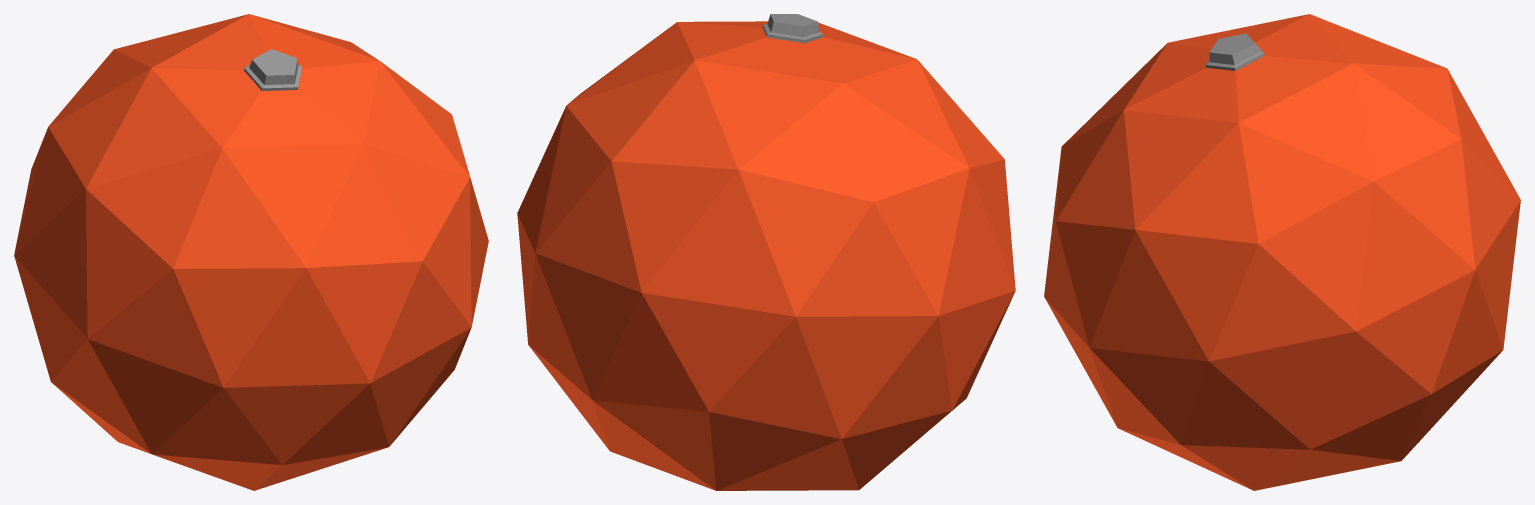
File: orangee.FBX
The picture shows the model from 3 angles, left to right: view 1: azimuth 30°, elevation 25°; view 2: azimuth 150°, elevation 25°; view 3: azimuth 270°, elevation 25°; orthographic projection. The views are drawn at different scales.
Parts seen in each view (by area): view 1: default; view 2: default; view 3: default.
Part boxes in pixels (bbox=[...]): default: bbox=[14, 14, 488, 490]; default: bbox=[517, 14, 1015, 490]; default: bbox=[1044, 14, 1520, 490].
Size of the model in its own units: 10.09 by 9.97 by 10.36.
